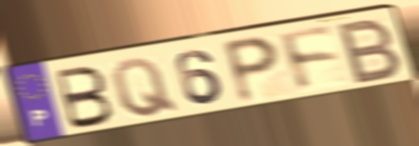6: (174, 49, 226, 107)
B: (336, 15, 405, 87), (53, 64, 116, 132)
F: (276, 24, 343, 95)
P: (220, 34, 282, 107)
Q: (109, 56, 182, 119)
